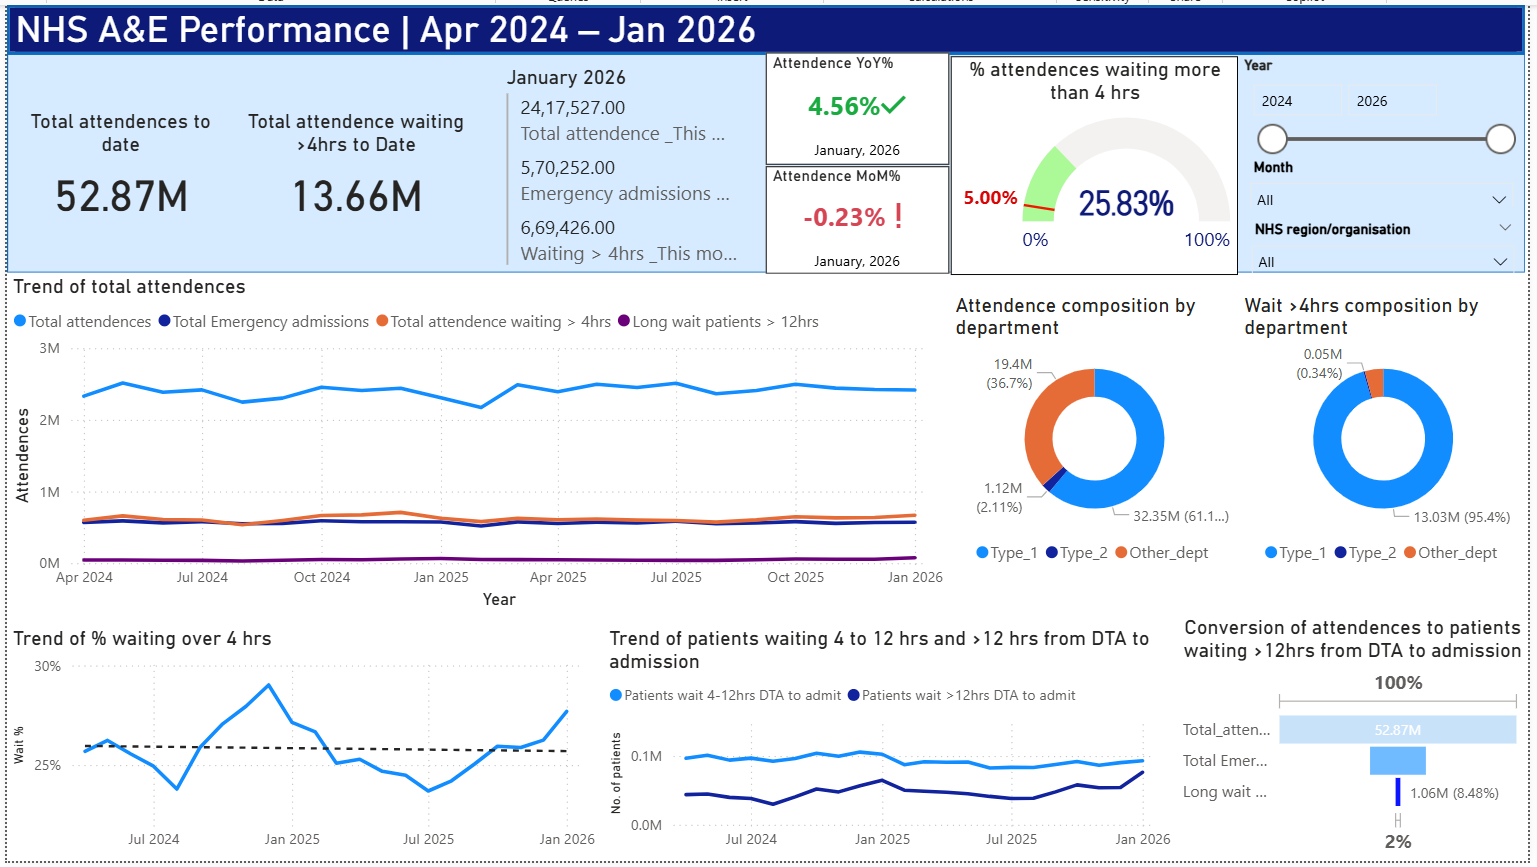

The page's visual inventory and layout, read from the dashboard file:
{"tool":"powerbi","page":{"name":"Summary","canvas":[1280,720],"ordinal":0},"visuals":[{"type":"shape","box":[0,41.4,1277.1,184.3],"z":0},{"type":"textbox","box":[0,0,1277.1,41.4],"z":1000},{"type":"slicer","title":"Year","fields":{"Values":["dim_date.Date.Variation.Date Hierarchy.Year"]},"box":[1035.7,42.9,241.4,91.4],"z":2000},{"type":"slicer","fields":{"Values":["dim_date.Date.Variation.Date Hierarchy.Month"]},"box":[1035.7,124.3,241.4,45.7],"z":3000},{"type":"kpi","title":"Attendence YoY%","fields":{"TrendLine":["dim_date.Date"],"Indicator":["dim_date.Attendence change YOY %"],"Goal":["dim_date.% change target"]},"box":[638.6,40,154.3,94.3],"z":4000},{"type":"kpi","title":"Attendence MoM%","fields":{"Goal":["dim_date.% change target"],"Indicator":["dim_date.Attendence change % MoM"],"TrendLine":["dim_date.Date"]},"box":[638.6,135.7,154.3,90],"z":5000},{"type":"funnel","title":"Conversion of attendences to patients waiting >12hrs from DTA to admission","fields":{"Y":["dim_date.Total_attendences","dim_date.Total Emergency admissions","fact_nhs_booked_attendance.Long wait patients > 12hrs"]},"box":[984.3,512.9,295.7,207.1],"z":6000},{"type":"card","title":"Total attendences to date","fields":{"Values":["dim_date.Total_attendences"]},"box":[0,87.1,191.4,101.4],"z":7000},{"type":"gauge","title":"% attendences waiting more than 4 hrs","fields":{"MinValue":["dim_date.Min waiting hr"],"MaxValue":["dim_date.Max waiting %"],"Y":["dim_date.Over 4hr wait %"],"TargetValue":["dim_date.Target attendence waiting > 4hrs"]},"box":[794.3,42.9,241.4,184.3],"z":8000},{"type":"card","title":"Total attendence waiting >4hrs to Date","fields":{"Values":["dim_date.Total attendence waiting > 4hrs"]},"box":[191.4,87.1,204.3,101.4],"z":9000},{"type":"multiRowCard","fields":{"Values":["dim_date.Latest Month Total attendence","dim_date.Latest month emergency admission","dim_date.Latest Month (wait >4hrs)"]},"box":[415.7,50,204.3,175.7],"z":10000},{"type":"lineChart","title":"Trend of total attendences","fields":{"Y":["dim_date.Total_attendences","dim_date.Total Emergency admissions","dim_date.Total attendence waiting > 4hrs","dim_date.Long wait patients > 12hrs"],"Category":["dim_date.Date.Variation.Date Hierarchy.Year","dim_date.Date.Variation.Date Hierarchy.Quarter","dim_date.Date.Variation.Date Hierarchy.Month","dim_date.Date.Variation.Date Hierarchy.Day"]},"box":[0,225.7,792.9,287.1],"z":11000},{"type":"lineChart","title":"Trend of % waiting over 4 hrs","fields":{"Category":["dim_date.Date.Variation.Date Hierarchy.Year","dim_date.Date.Variation.Date Hierarchy.Quarter","dim_date.Date.Variation.Date Hierarchy.Month","dim_date.Date.Variation.Date Hierarchy.Day"],"Y":["dim_date.Over 4hr wait %"]},"box":[0,522.9,500,197.1],"z":12000},{"type":"lineChart","title":"Trend of patients waiting 4 to 12 hrs and >12 hrs from DTA to admission","fields":{"Category":["dim_date.Date.Variation.Date Hierarchy.Year","dim_date.Date.Variation.Date Hierarchy.Quarter","dim_date.Date.Variation.Date Hierarchy.Month","dim_date.Date.Variation.Date Hierarchy.Day"],"Y":["Sum(fact_nhs_unbooked_attendance.patients_who_have_waited_412_hs_from_dta_to_admission)","Sum(fact_nhs_unbooked_attendance.patients_who_have_waited_12_hrs_from_dta_to_admission)"]},"box":[501.4,522.9,482.9,197.1],"z":13000},{"type":"slicer","title":"NHS Region/Organisation","fields":{"Values":["dim_organisation.parent_org","dim_organisation.org_name"]},"box":[1037.1,177.1,241.4,48.6],"z":14000},{"type":"donutChart","title":"Attendence composition by department","fields":{"Y":["dim_date.Type_1 Total attendence","dim_date.Type_2 Total attendence","dim_date.Other_dept Total attendence"]},"box":[792.9,241.4,244.3,237.1],"z":15000},{"type":"donutChart","title":"Wait >4hrs composition by department","fields":{"Y":["dim_date.Type_1 >4hrs","dim_date.Type_2 >4hrs","dim_date.Other_dept >4hrs"]},"box":[1035.7,241.4,244.3,237.1],"z":16000}]}

Visuals, with their boxes in screenshot pixels (x1, y1, x2, y2), scaled from the page's 1280x720 canvas onto the 1537x867 screenshot:
shape: rect(0, 50, 1534, 272)
textbox: rect(0, 0, 1534, 50)
"Year" slicer: rect(1244, 52, 1534, 162)
slicer - dim_date.Date.Variation.Date Hierarchy.Month: rect(1244, 150, 1534, 205)
"Attendence YoY%" kpi: rect(767, 48, 952, 162)
"Attendence MoM%" kpi: rect(767, 163, 952, 272)
"Conversion of attendences to patients waiting >12hrs from DTA to admission" funnel: rect(1182, 618, 1536, 866)
"Total attendences to date" card: rect(0, 105, 230, 227)
"% attendences waiting more than 4 hrs" gauge: rect(954, 52, 1244, 274)
"Total attendence waiting >4hrs to Date" card: rect(230, 105, 475, 227)
multiRowCard - dim_date.Latest Month Total attendence x dim_date.Latest month emergency admission: rect(499, 60, 744, 272)
"Trend of total attendences" lineChart: rect(0, 272, 952, 617)
"Trend of % waiting over 4 hrs" lineChart: rect(0, 630, 600, 866)
"Trend of patients waiting 4 to 12 hrs and >12 hrs from DTA to admission" lineChart: rect(602, 630, 1182, 866)
"NHS Region/Organisation" slicer: rect(1245, 213, 1535, 272)
"Attendence composition by department" donutChart: rect(952, 291, 1245, 576)
"Wait >4hrs composition by department" donutChart: rect(1244, 291, 1536, 576)
